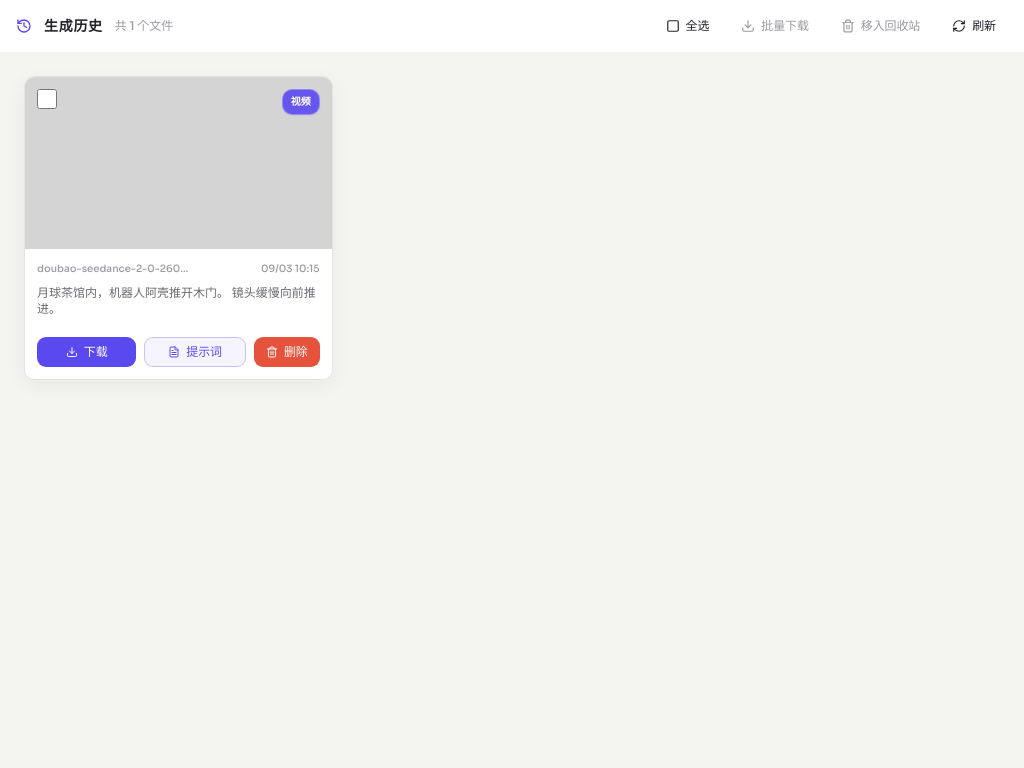
Scenario: HistoryPage fixed views › labels videos, renders an authenticated thumbnail, and opens the full prompt between download and delete
The width and height of the screenshot is (1024, 768).
Check: the text "视频" is shown, box [282,89,320,115]
Click the button "提示词": (195, 352) [144,338,246,368]
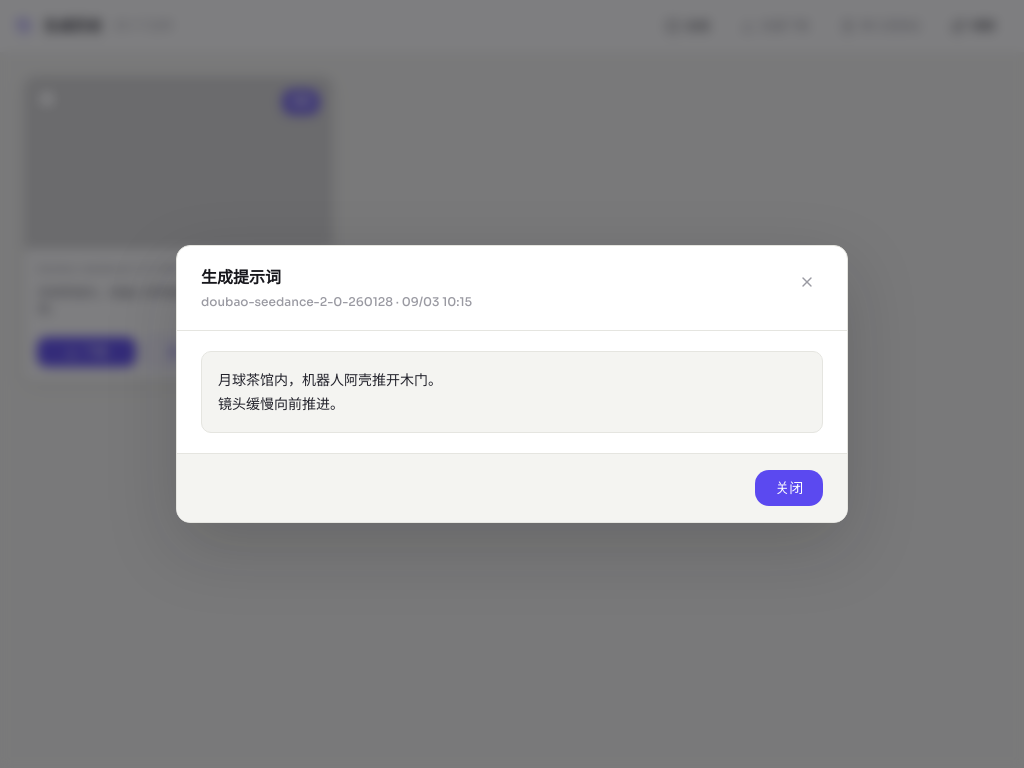
Check: the dialog "生成提示词" shows "月球茶馆内，机器人阿壳推开木门。", box [218,371,442,413]
Check: the dialog "生成提示词" shows "镜头缓慢向前推进。", box [218,371,442,413]
Check: the dialog "生成提示词" shows "doubao-seedance-2-0-260128", box [201,294,393,309]
Move the pointer off the dialog "生成提示词", box [176,245,848,523]
Check: the dialog "生成提示词" is shown, box [176,245,848,523]
Click the button named "关闭提示词": (807, 282) [791,266,823,298]
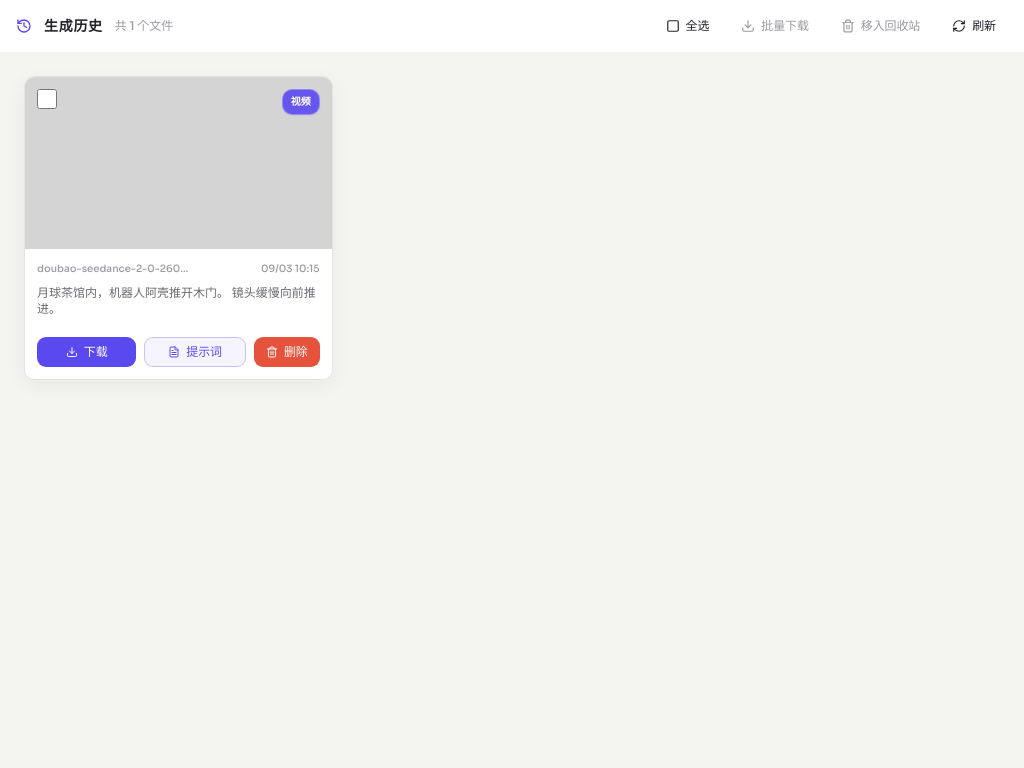
Check: the heading "生成提示词" is gone
